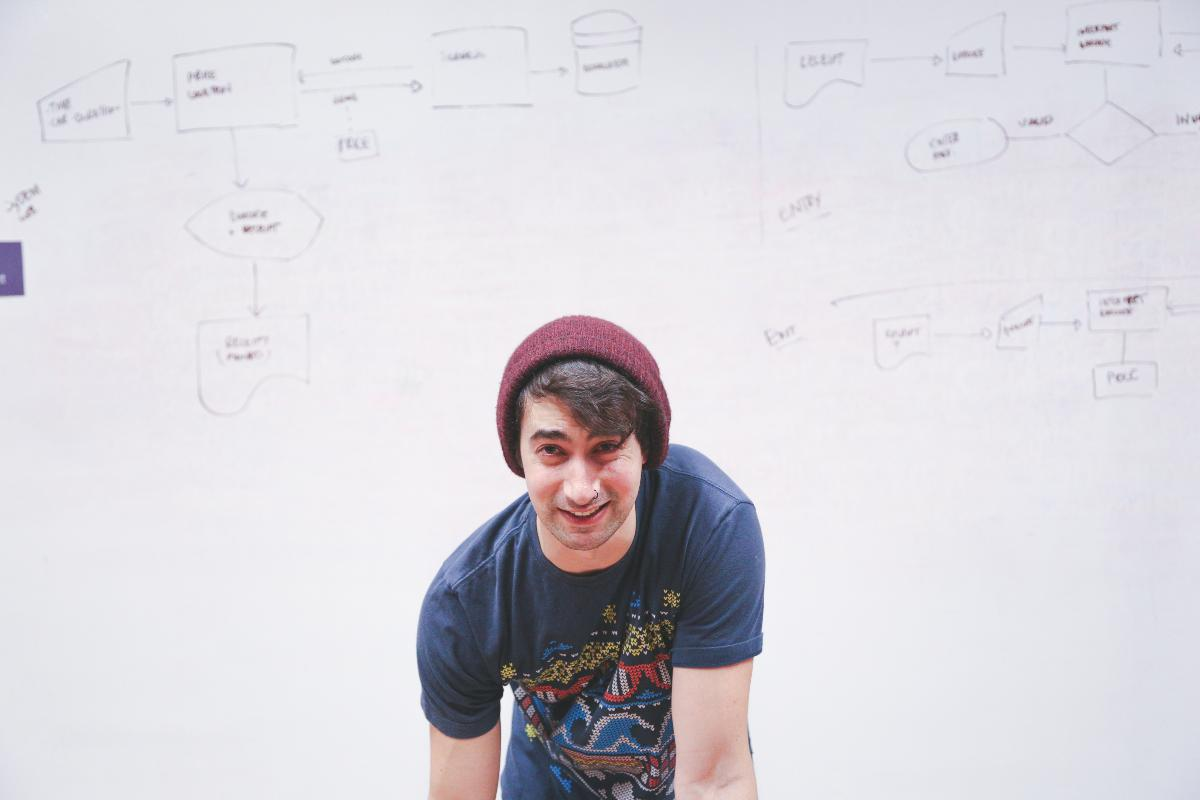Person: (409, 312, 773, 800)
